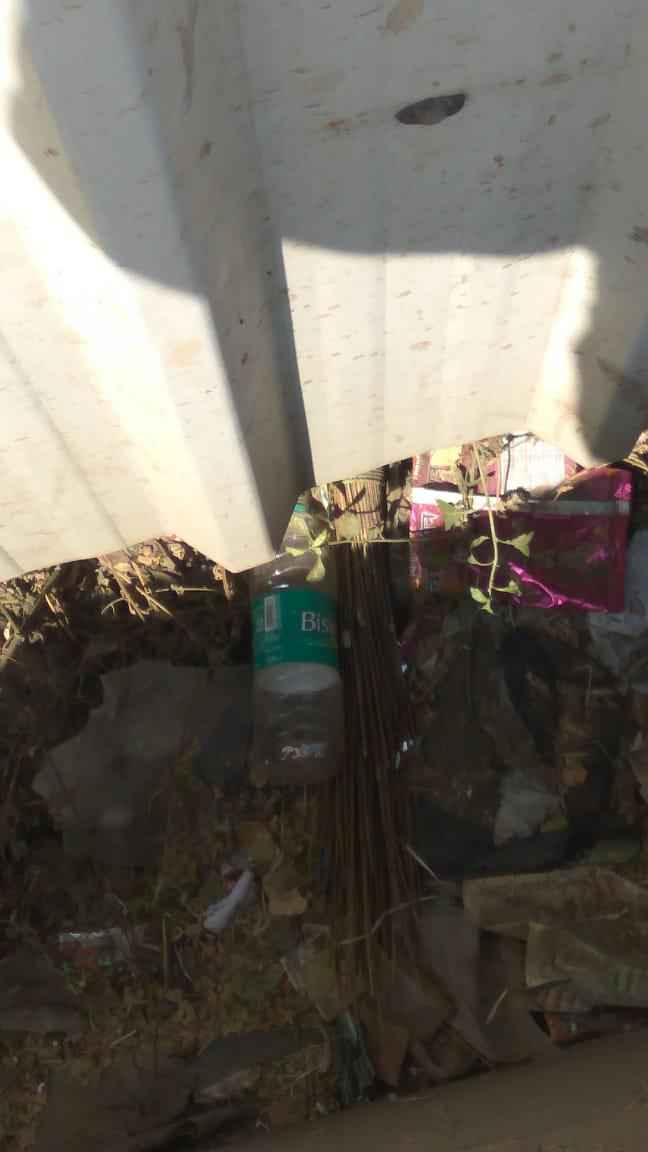Bisleri: (253, 597, 344, 668)
